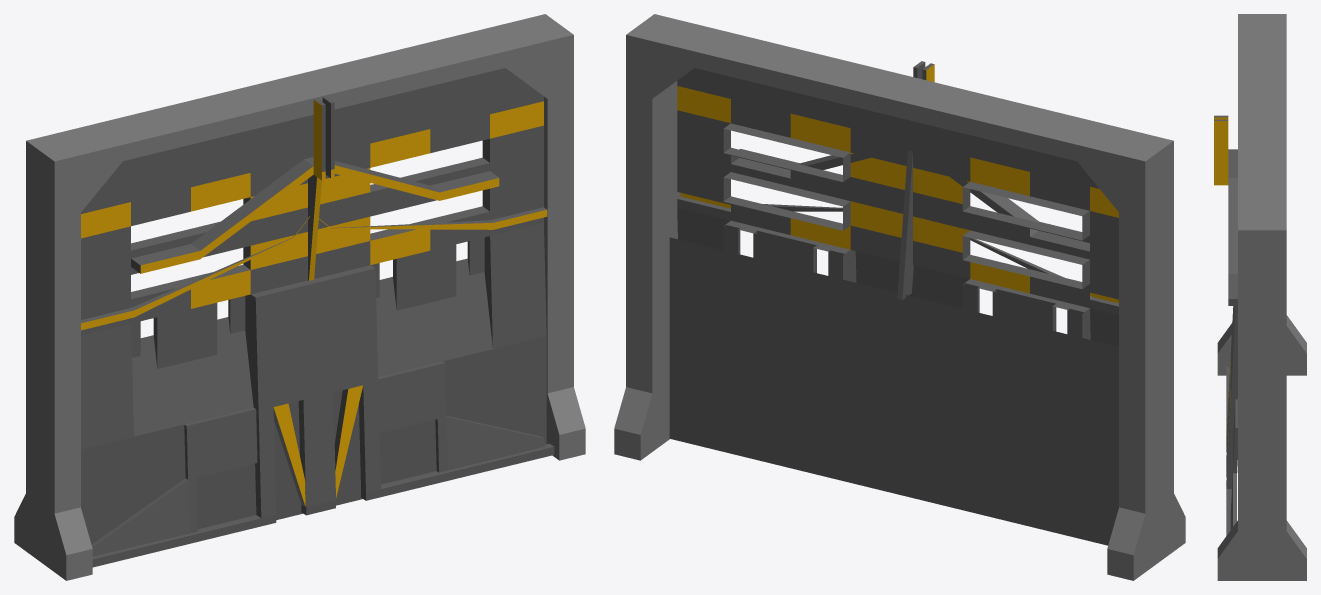
File: SpiderRoomroom.fbx
3 renders of one model, left to right at view 1: azimuth 30°, elevation 25°; view 2: azimuth 150°, elevation 25°; view 3: azimuth 270°, elevation 25°, orthographic. The views are drawn at different scales.
Parts seen in each view (by area): view 1: Cube.005, Cube.004; view 2: Cube.005, Cube.004; view 3: Cube.004, Cube.005.
Part boxes in pixels (x1,y1,x2,y2): Cube.005: (81, 68, 554, 567); Cube.004: (14, 14, 585, 580); Cube.005: (669, 61, 1118, 545); Cube.004: (614, 14, 1185, 580); Cube.004: (1217, 14, 1306, 580); Cube.005: (1214, 115, 1237, 535).
Bounding box in the file's own units: 540 × 415 × 97.72.
